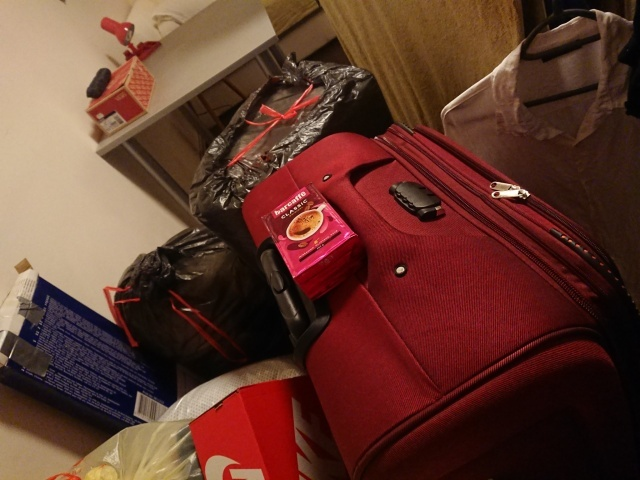Barcaffe Classic Original 225g: (255, 180, 365, 306)
